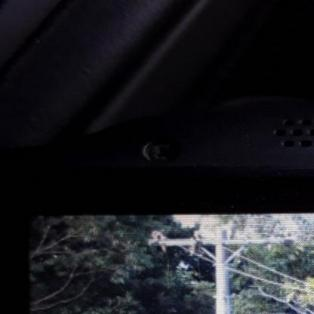Poste: (209, 225, 237, 314)
